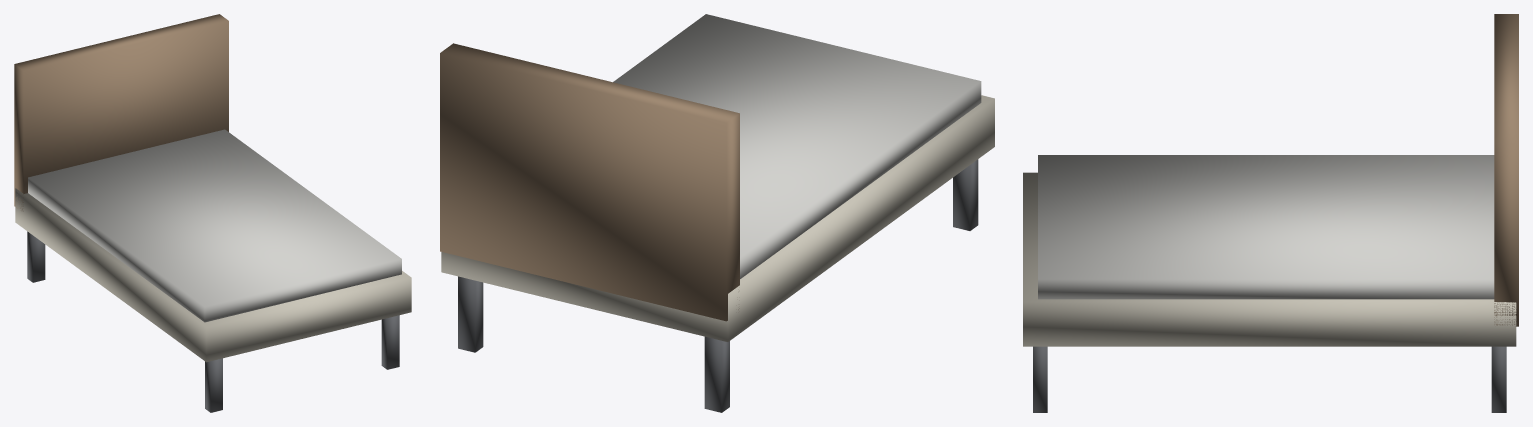
Rendered from single_bed__wide.glb.
3 renders of one model, left to right at view 1: azimuth 30°, elevation 25°; view 2: azimuth 150°, elevation 25°; view 3: azimuth 270°, elevation 25°, orthographic. The views are drawn at different scales.
Visible parts, largest first — view 1: world; view 2: world; view 3: world.
Boxes of the visible parts, bbox=[...] form: world: bbox=[14, 14, 411, 412]; world: bbox=[440, 14, 994, 412]; world: bbox=[1023, 14, 1518, 412].
Size of the model in its own units: 1.24 by 1.23 by 2.01.
